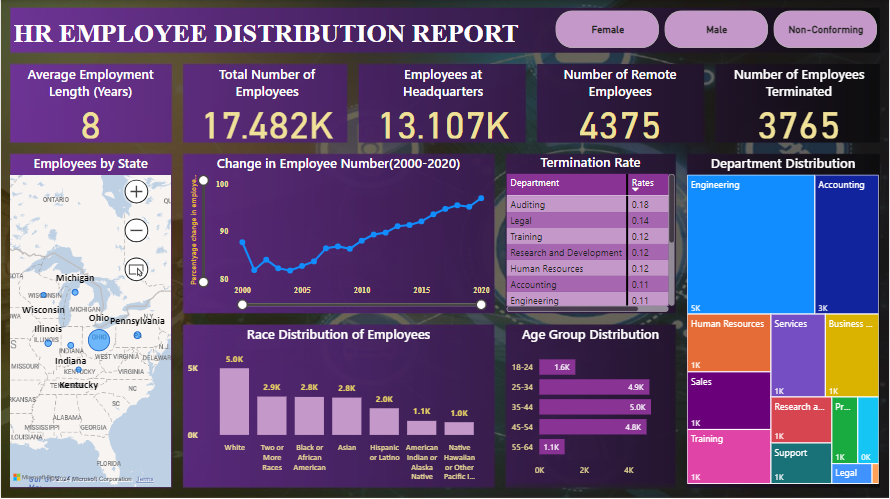

What the dashboard file says about the page in this screenshot:
{"tool":"powerbi","page":{"name":"Page 1","canvas":[1280,720],"ordinal":0},"visuals":[{"type":"card","title":"Average Employment Length (Years)","fields":{"Values":["Sum(avg_length_employment.avg_length_employment)"]},"box":[13,93.6,231.8,110.9],"z":0},{"type":"textbox","box":[13,21.6,758.9,53.3],"z":1000},{"type":"lineChart","title":"Change in Employee Number(2000-2020)","fields":{"Y":["Sum(net_change_percent.net_change_percent)"],"Category":["net_change_percent.year"]},"box":[263.5,221.8,445,227.5],"z":2000},{"type":"map","title":"Employees by State","fields":{"Category":["states.location_state"],"Size":["Sum(states.count)"]},"box":[13,221.8,231.8,479.5],"z":3000},{"type":"columnChart","title":"Race Distribution of Employees","fields":{"Category":["race2.race"],"Y":["Sum(race2.count)"]},"box":[263.5,468,445,233.3],"z":4000},{"type":"barChart","title":"Age Group Distribution","fields":{"Category":["age_group_gender.age_group"],"Y":["Sum(age_group_gender.count)"]},"box":[727.2,468,243.4,227.5],"z":5000},{"type":"card","title":"Employees at Headquarters","fields":{"Values":["location2.count for Headquarters 2"]},"box":[517,93.6,239,110.9],"z":6000},{"type":"card","title":"Number of Remote Employees","fields":{"Values":["location2.count for Remote 2"]},"box":[771.8,93.6,239,110.9],"z":7000},{"type":"card","title":"Total Number of Employees","fields":{"Values":["Sum(gender.count)"]},"box":[263.5,93.6,239,110.9],"z":8000},{"type":"treemap","title":"Department Distribution","fields":{"Group":["department.department"],"Values":["Sum(department.count)"]},"box":[983.5,221.8,285.1,479.5],"z":9000},{"type":"card","title":"Number of Employees Terminated","fields":{"Values":["Sum(terminated_employees2.terminated_employees)"]},"box":[1029.6,93.6,239,110.9],"z":10000},{"type":"advancedSlicerVisual","fields":{"Values":["gender.gender"]},"box":[793.4,10.1,475.2,64.8],"z":11000},{"type":"tableEx","title":"Termination Rate ","fields":{"Values":["turnover_rates.department","Sum(turnover_rates.termination_rate)"]},"box":[727.2,220.3,243.4,229],"z":12000}]}

Visuals, with their boxes in screenshot pixels (x1, y1, x2, y2), scaled from the page's 1280x720 canvas onto the 890x499 screenshot:
"Average Employment Length (Years)" card: BBox(9, 65, 170, 142)
textbox: BBox(9, 15, 537, 52)
"Change in Employee Number(2000-2020)" lineChart: BBox(183, 154, 493, 311)
"Employees by State" map: BBox(9, 154, 170, 486)
"Race Distribution of Employees" columnChart: BBox(183, 324, 493, 486)
"Age Group Distribution" barChart: BBox(506, 324, 675, 482)
"Employees at Headquarters" card: BBox(359, 65, 526, 142)
"Number of Remote Employees" card: BBox(537, 65, 703, 142)
"Total Number of Employees" card: BBox(183, 65, 349, 142)
"Department Distribution" treemap: BBox(684, 154, 882, 486)
"Number of Employees Terminated" card: BBox(716, 65, 882, 142)
advancedSlicerVisual - gender.gender: BBox(552, 7, 882, 52)
"Termination Rate " tableEx: BBox(506, 153, 675, 311)
